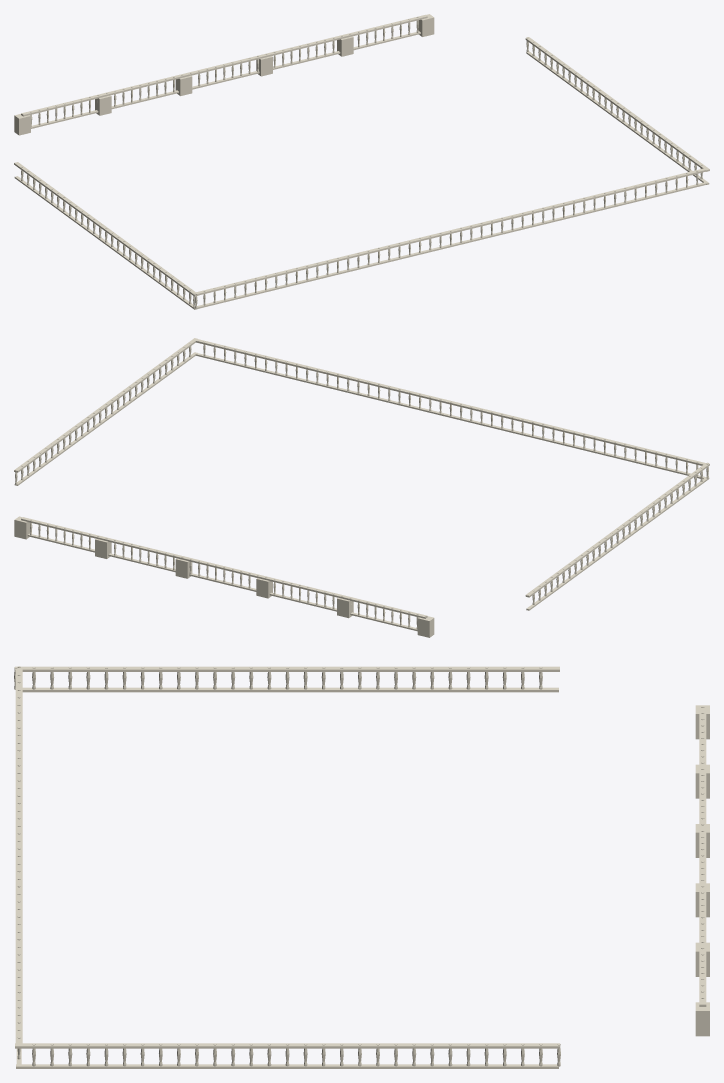
File: KOL_T1_TOWN_HALL__06_Roofline.fbx
3 views of the same model, one above another, from view 1: azimuth 30°, elevation 25°; view 2: azimuth 150°, elevation 25°; view 3: azimuth 270°, elevation 25° (orthographic). The views are drawn at different scales.
Visible parts, largest first — view 1: KOL_T1_TOWN_HALL__06_Roofline__KOL_T1_HeritageWhite, KOL_T1_TOWN_HALL__06_Roofline__KOL_T1_HeritageWhite.001, KOL_T1_TOWN_HALL__06_Roofline__KOL_T1_HeritageWhite.002; view 2: KOL_T1_TOWN_HALL__06_Roofline__KOL_T1_HeritageWhite, KOL_T1_TOWN_HALL__06_Roofline__KOL_T1_HeritageWhite.001, KOL_T1_TOWN_HALL__06_Roofline__KOL_T1_HeritageWhite.002; view 3: KOL_T1_TOWN_HALL__06_Roofline__KOL_T1_HeritageWhite.001, KOL_T1_TOWN_HALL__06_Roofline__KOL_T1_HeritageWhite, KOL_T1_TOWN_HALL__06_Roofline__KOL_T1_HeritageWhite.002.
Part boxes in pixels (box(x1,y1,x2,y2)): KOL_T1_TOWN_HALL__06_Roofline__KOL_T1_HeritageWhite: box(21, 14, 503, 308); KOL_T1_TOWN_HALL__06_Roofline__KOL_T1_HeritageWhite.001: box(14, 37, 708, 309); KOL_T1_TOWN_HALL__06_Roofline__KOL_T1_HeritageWhite.002: box(14, 14, 709, 184); KOL_T1_TOWN_HALL__06_Roofline__KOL_T1_HeritageWhite: box(21, 388, 708, 631); KOL_T1_TOWN_HALL__06_Roofline__KOL_T1_HeritageWhite.001: box(14, 338, 709, 610); KOL_T1_TOWN_HALL__06_Roofline__KOL_T1_HeritageWhite.002: box(14, 338, 434, 637); KOL_T1_TOWN_HALL__06_Roofline__KOL_T1_HeritageWhite.001: box(14, 666, 560, 1068); KOL_T1_TOWN_HALL__06_Roofline__KOL_T1_HeritageWhite: box(15, 666, 706, 1006); KOL_T1_TOWN_HALL__06_Roofline__KOL_T1_HeritageWhite.002: box(15, 705, 709, 1068).
Bounding box in the file's own units: 112 × 3.9 × 87.15.
